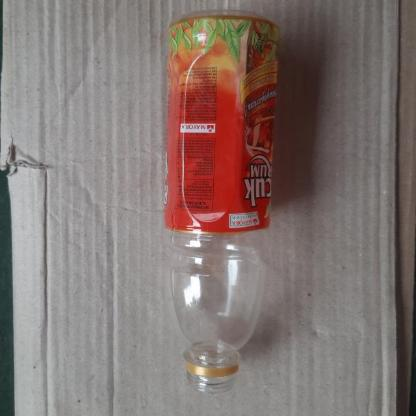Plastic Bottle: (162, 8, 282, 396)
